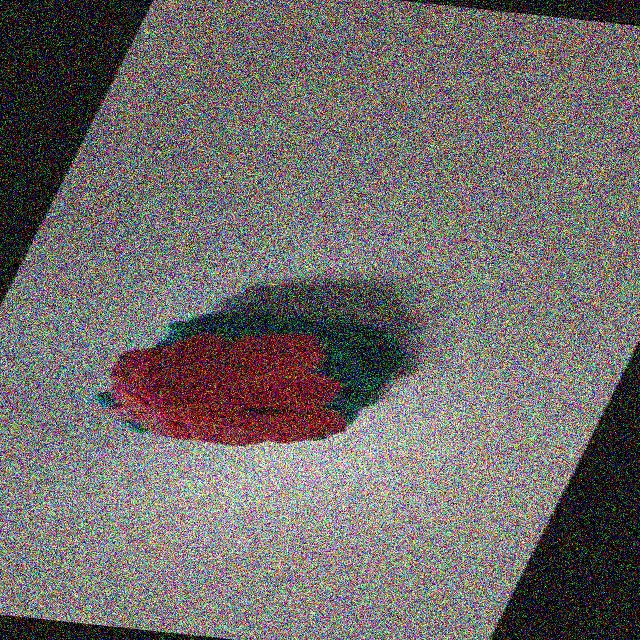House: (72, 292, 438, 469)
